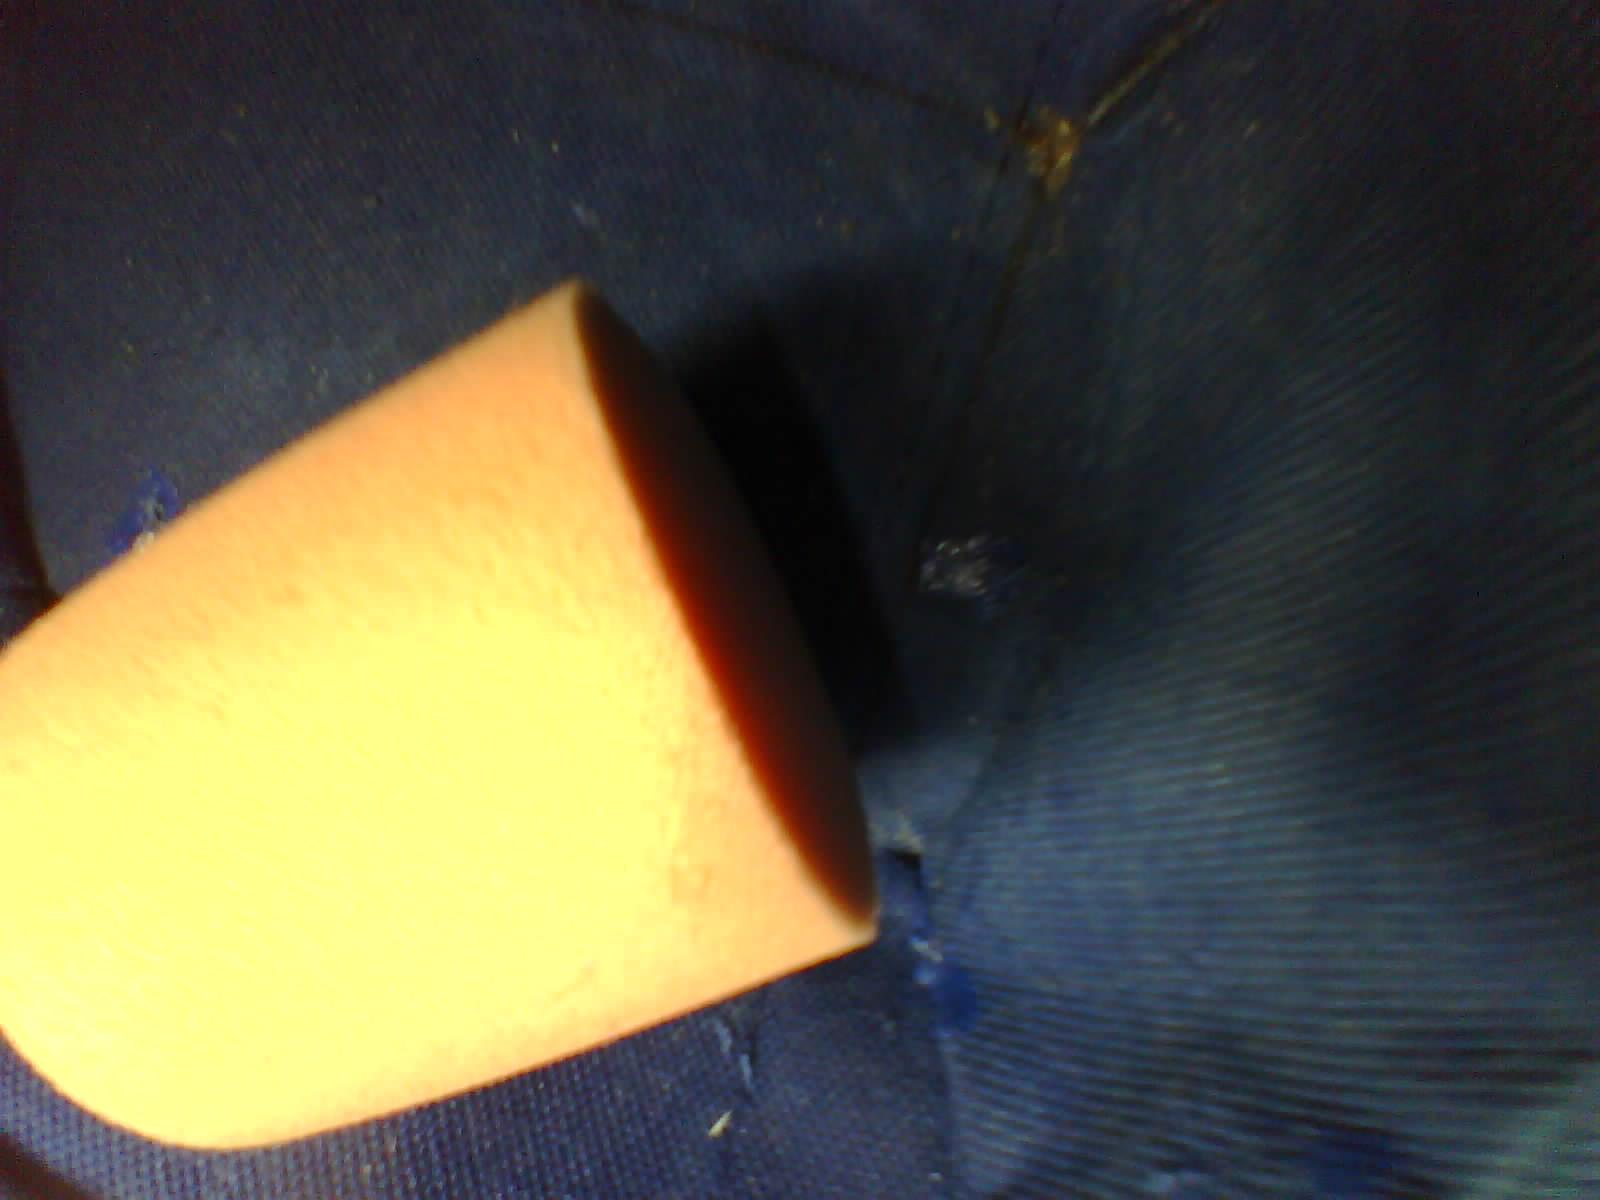cylinder-soft: (0, 267, 916, 1180)
